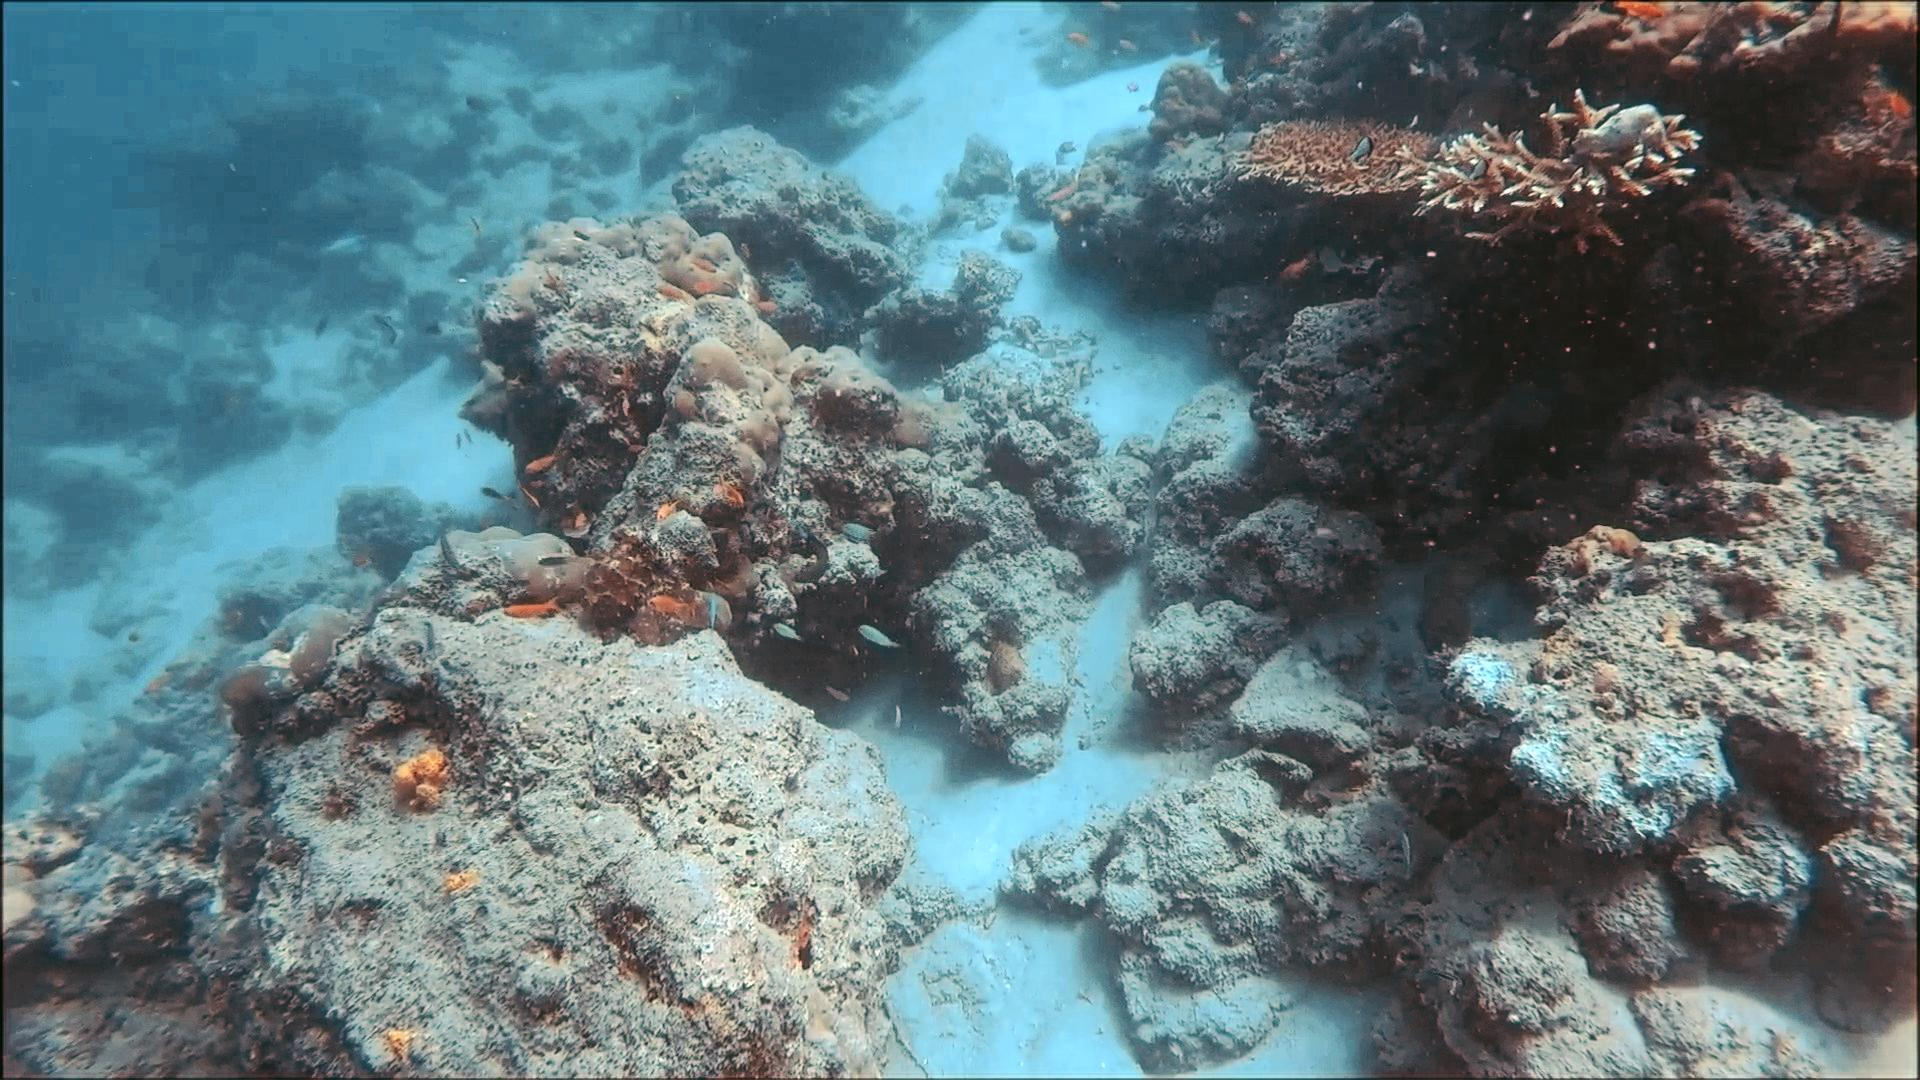Porites-Porites pukoensis: (608, 204, 833, 495)
